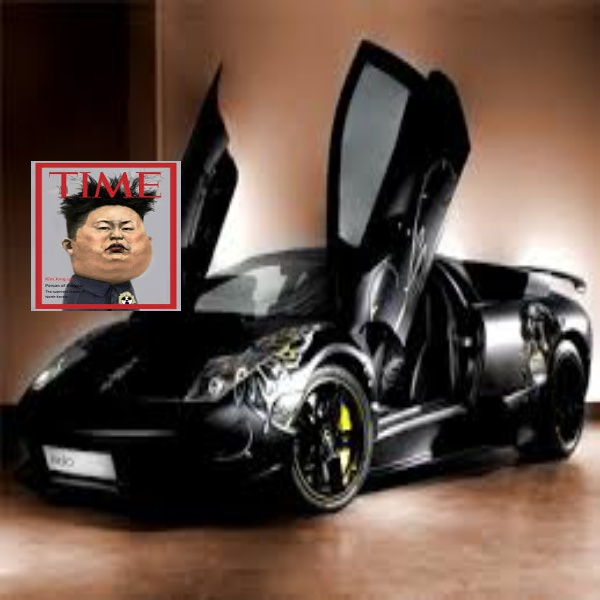time_cover: (23, 155, 190, 324)
